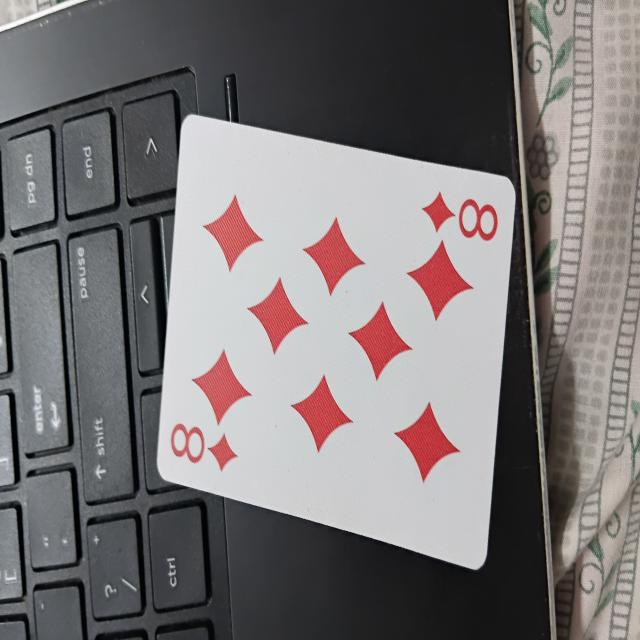8D: (157, 121, 515, 562)
